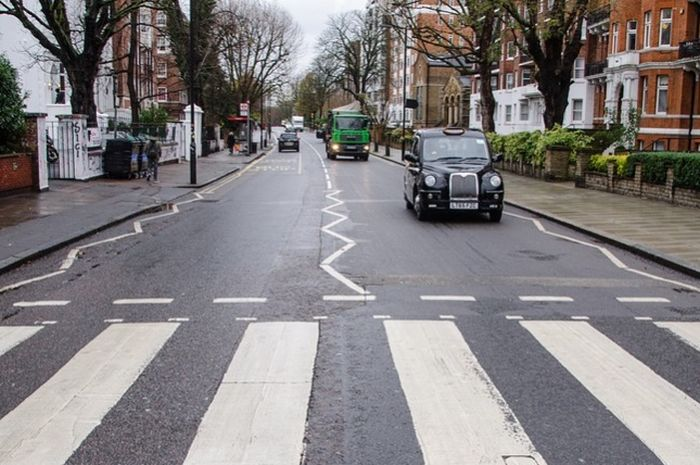bollard: (187, 143, 200, 185)
zebracross: (9, 299, 691, 453)
